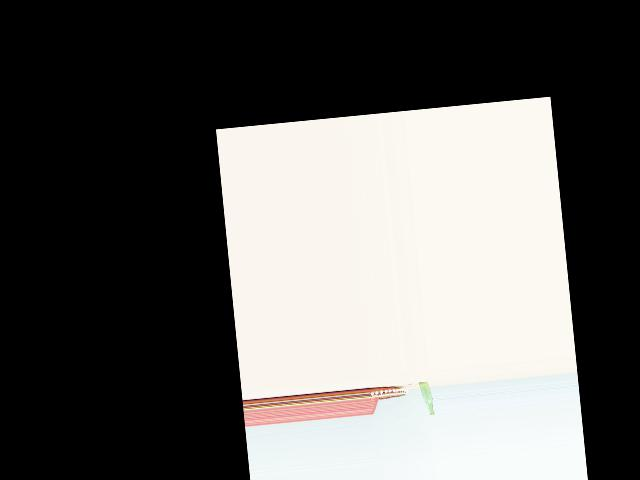beer: (418, 380, 434, 416)
